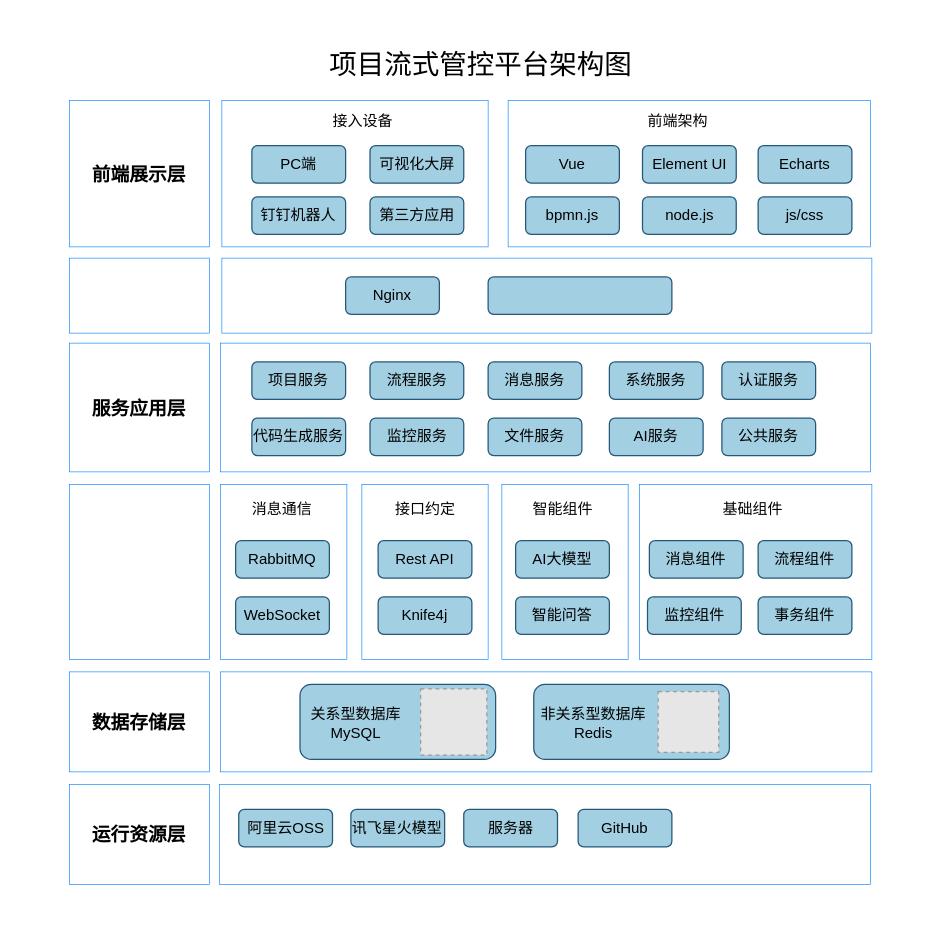
This 943x943 diagram has some shape labels left out. Grey dashed boxes stand in for pictures. Each missing label, with the centre of its shape:
"Spring Cloud Gateway" belongs at pixel 579 295.
"基础服务层" belongs at pixel 138 571.
"网关控制层" belongs at pixel 138 295.
